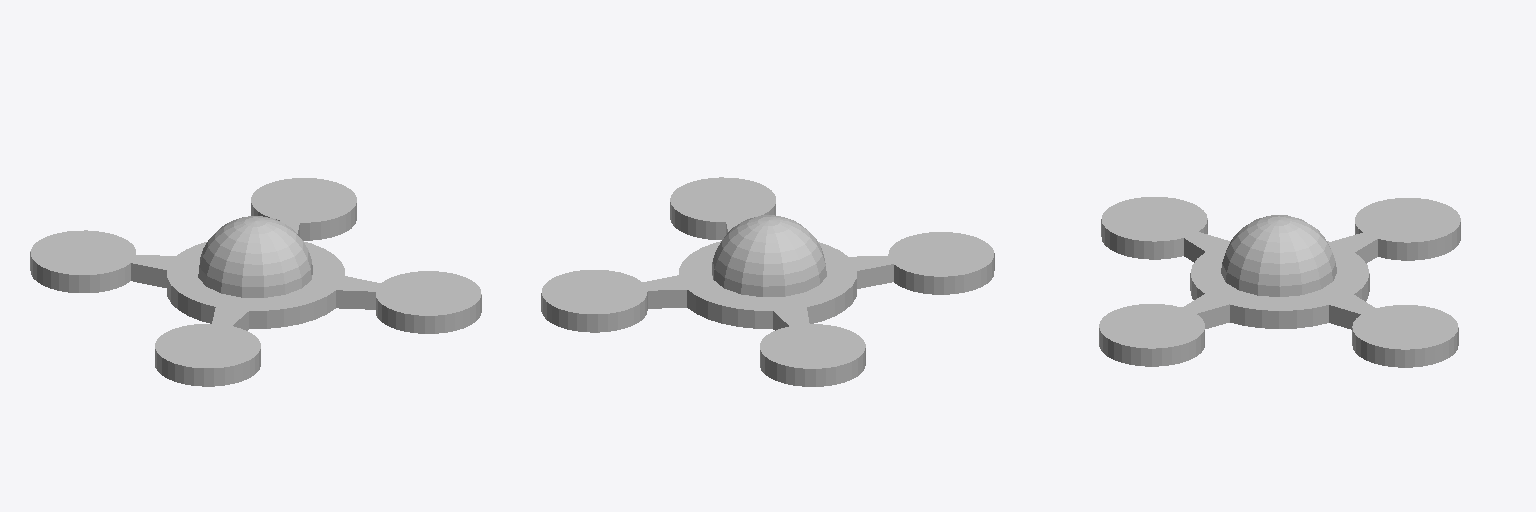
The model's file is BombPowerUp.obj.
3 views of the same model, side by side, from view 1: azimuth 30°, elevation 25°; view 2: azimuth 150°, elevation 25°; view 3: azimuth 270°, elevation 25° (orthographic).
Bounding box in the file's own units: 4.04 × 0.8731 × 4.04.